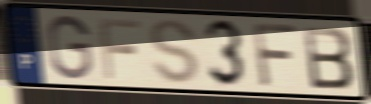3: (202, 18, 249, 91)
B: (301, 24, 356, 91)
F: (251, 21, 301, 91), (96, 16, 143, 82)
G: (46, 13, 95, 82)
S: (148, 17, 202, 86)
